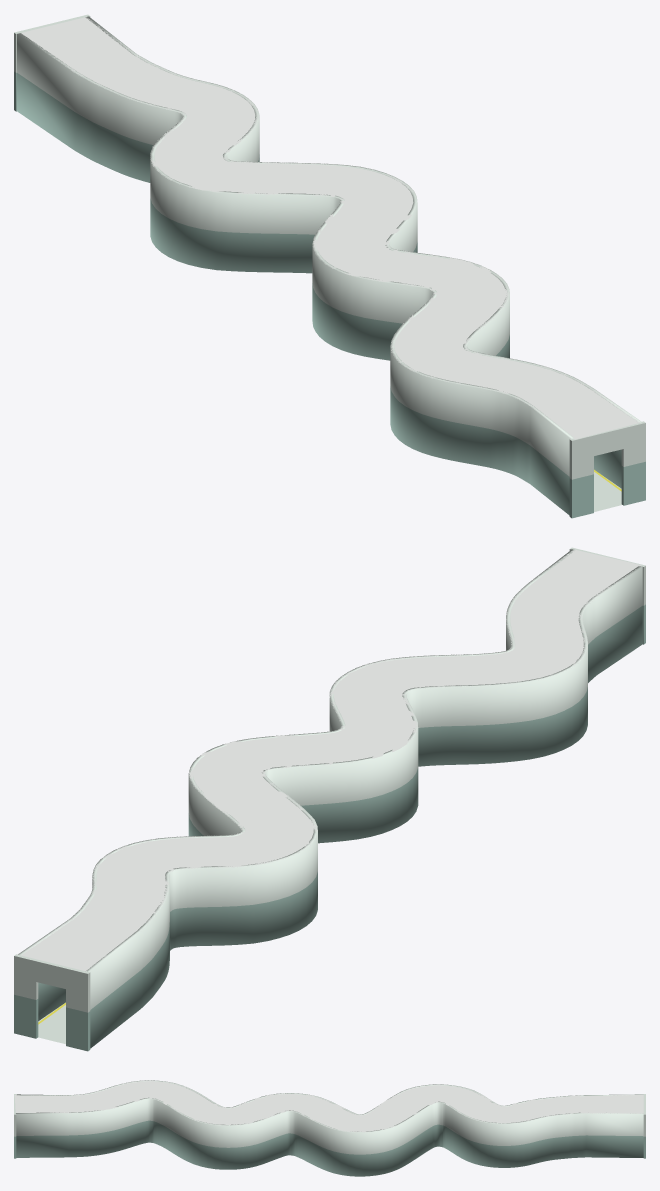
Rendered from pasillo4.fbx.
3 renders of one model, top to bottom at view 1: azimuth 30°, elevation 25°; view 2: azimuth 150°, elevation 25°; view 3: azimuth 270°, elevation 25°, orthographic. The views are drawn at different scales.
Parts seen in each view (by area): view 1: Pared_Izq, Techo, Pared_Der, Pared_A_izq, Pared_A_der, Piso; view 2: Pared_Izq, Techo, Pared_Der, Pared_B_izq, Pared_B_der, Piso; view 3: Pared_Der, Techo, Pared_Izq.
Part boxes in pixels (x1,y1,x2,y2): Pared_Izq: [17, 33, 573, 515]; Techo: [20, 17, 640, 439]; Pared_Der: [85, 16, 641, 488]; Pared_A_izq: [569, 435, 593, 518]; Pared_A_der: [621, 421, 645, 505]; Piso: [594, 472, 621, 511]; Pared_Izq: [86, 566, 642, 1048]; Techo: [21, 550, 641, 971]; Pared_Der: [18, 549, 574, 1020]; Pared_B_izq: [66, 967, 90, 1051]; Pared_B_der: [14, 954, 38, 1038]; Piso: [38, 1002, 65, 1044]; Pared_Der: [16, 1097, 643, 1176]; Techo: [14, 1080, 643, 1132]; Pared_Izq: [16, 1080, 643, 1115].
Size of the model in its own units: 766 by 300 by 3913.
